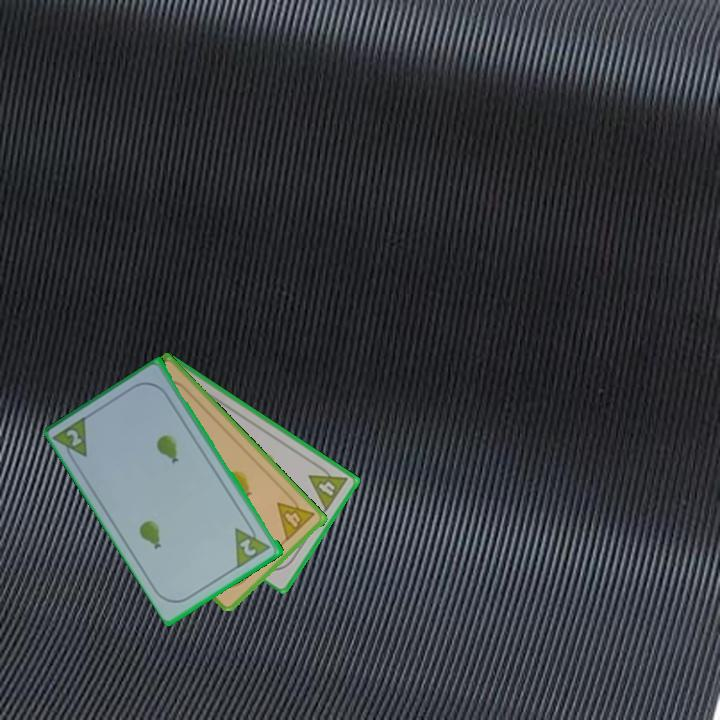2p: (231, 518, 274, 570), (63, 426, 86, 450)
4p: (305, 460, 350, 514), (274, 490, 318, 544)
